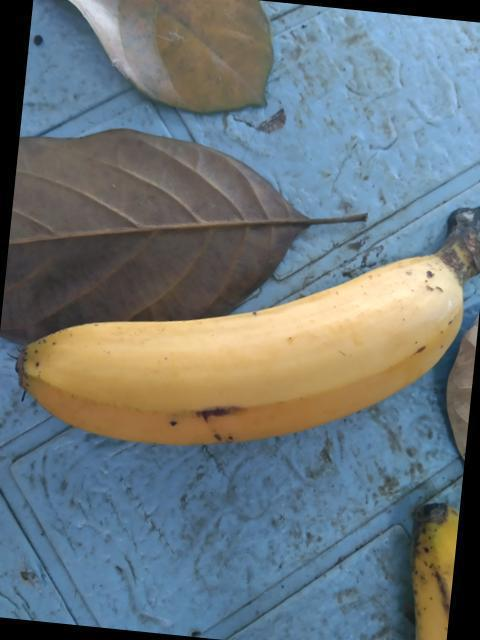freshripe: (28, 243, 479, 462)
